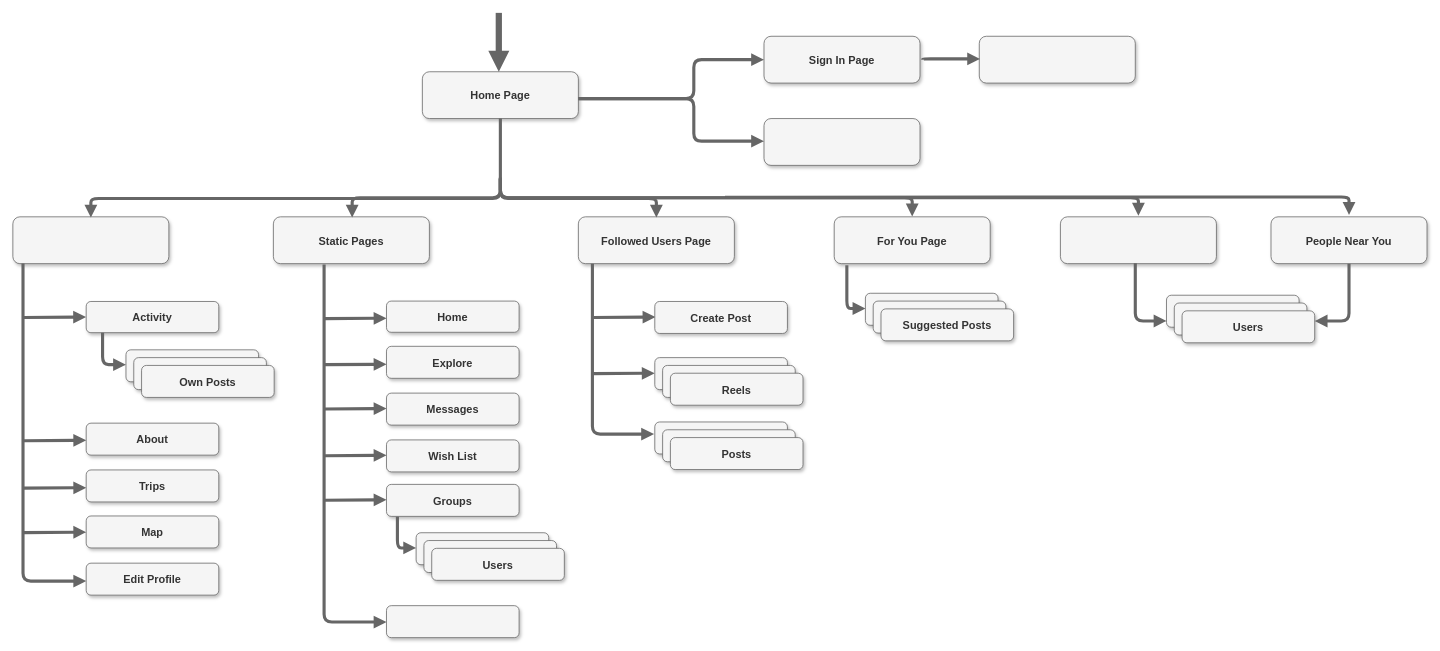
The diagram is 1440 pixels wide and 651 high, and some of its shapes have lost their labels. Each missing label, with the centre of its shape:
"Admin Page" belongs at point (842, 143).
"More" belongs at point (453, 622).
"Profile Page" belongs at point (91, 241).
"Sign Up Page" belongs at point (1057, 60).
"Suggested Groups" belongs at point (1139, 241).
